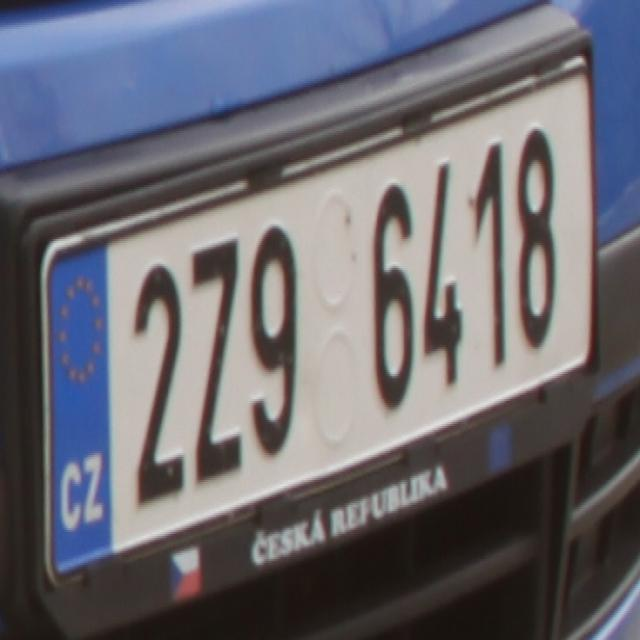1: (472, 137, 513, 368)
2: (128, 260, 184, 494)
4: (422, 164, 468, 397)
6: (373, 183, 416, 405)
8: (516, 127, 556, 351)
9: (248, 231, 298, 457)
Z: (186, 239, 254, 476)
